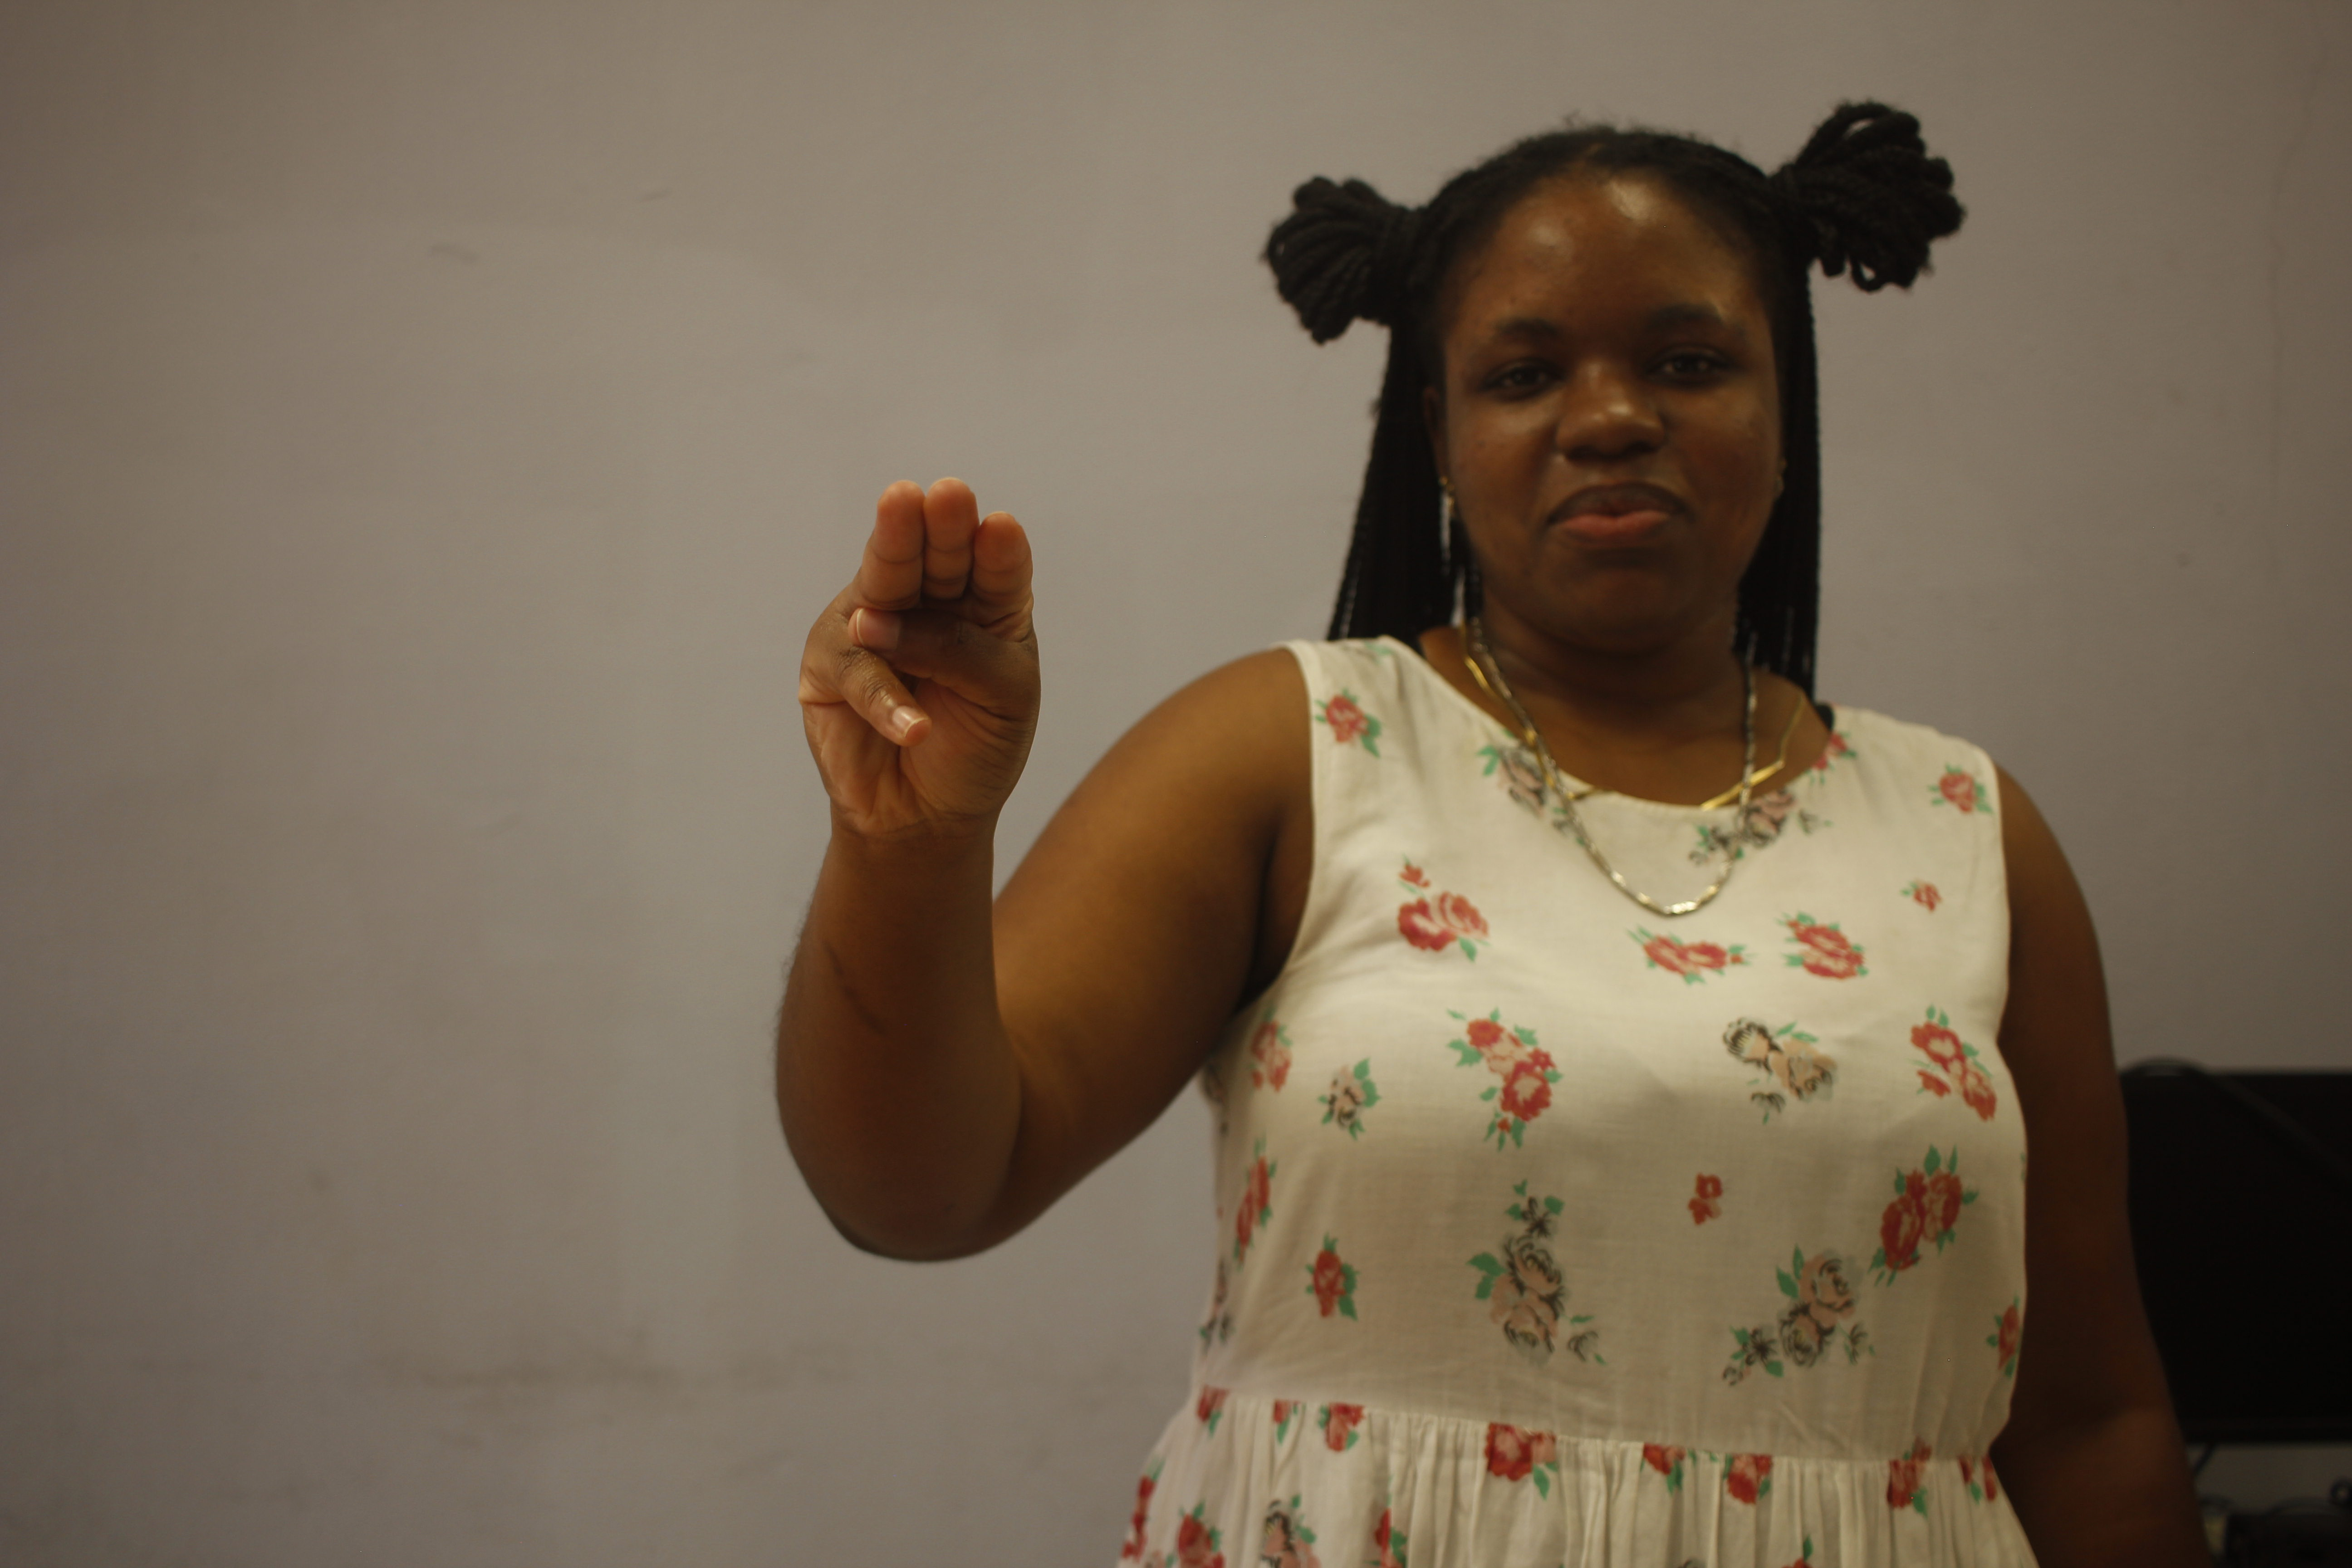M: (780, 464, 1050, 822)
